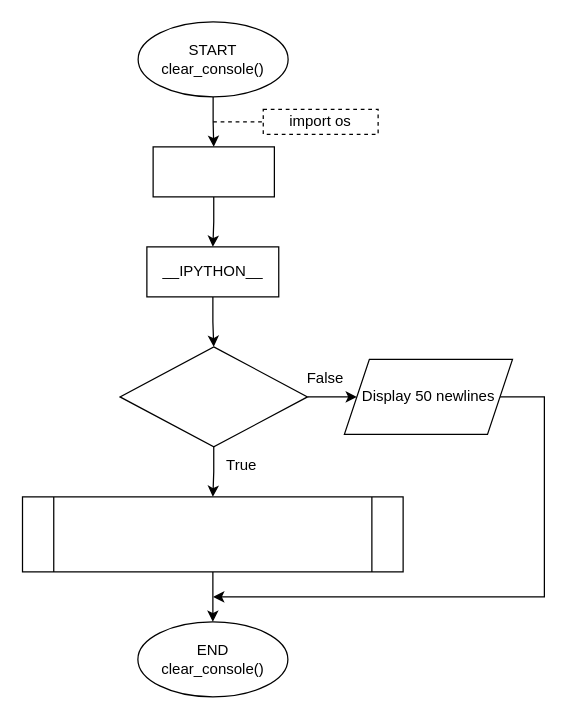
The diagram is 576 pixels wide and 719 high, and some of its shapes have lost their labels. Here are the shapes that lost their labels. From the top down, the centre of each, then its label:
At (x=213, y=171): "execute try block".
At (x=213, y=396): "except NameError ?".
At (x=212, y=534): "os.system('cls' if os.name == 'nt' else 'clear')".
